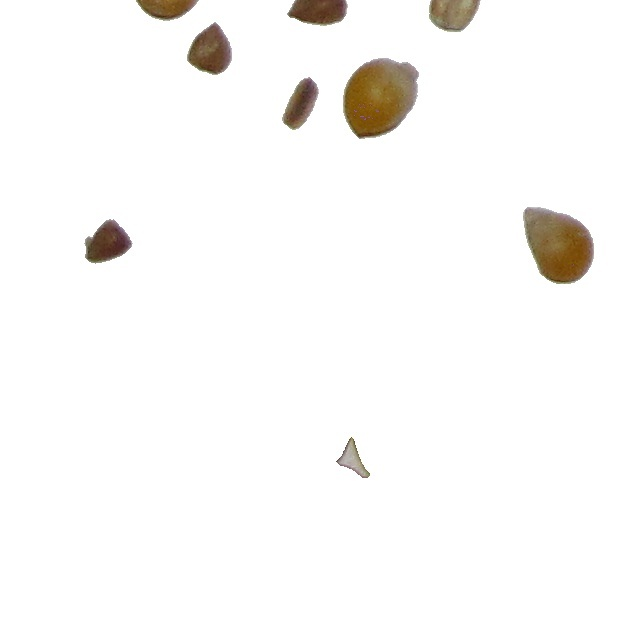buckwheat: (186, 21, 233, 76), (86, 218, 137, 265), (281, 76, 320, 131)
mais: (342, 57, 420, 140), (522, 206, 595, 285)
other: (335, 436, 371, 479)
